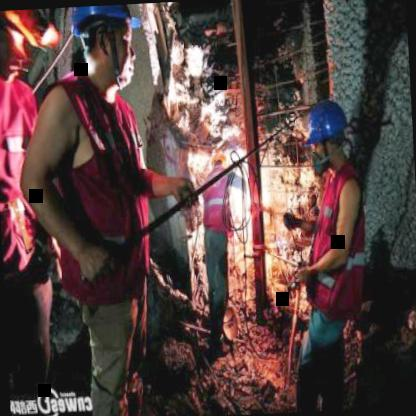helmet: (68, 3, 143, 92), (301, 97, 353, 174)
